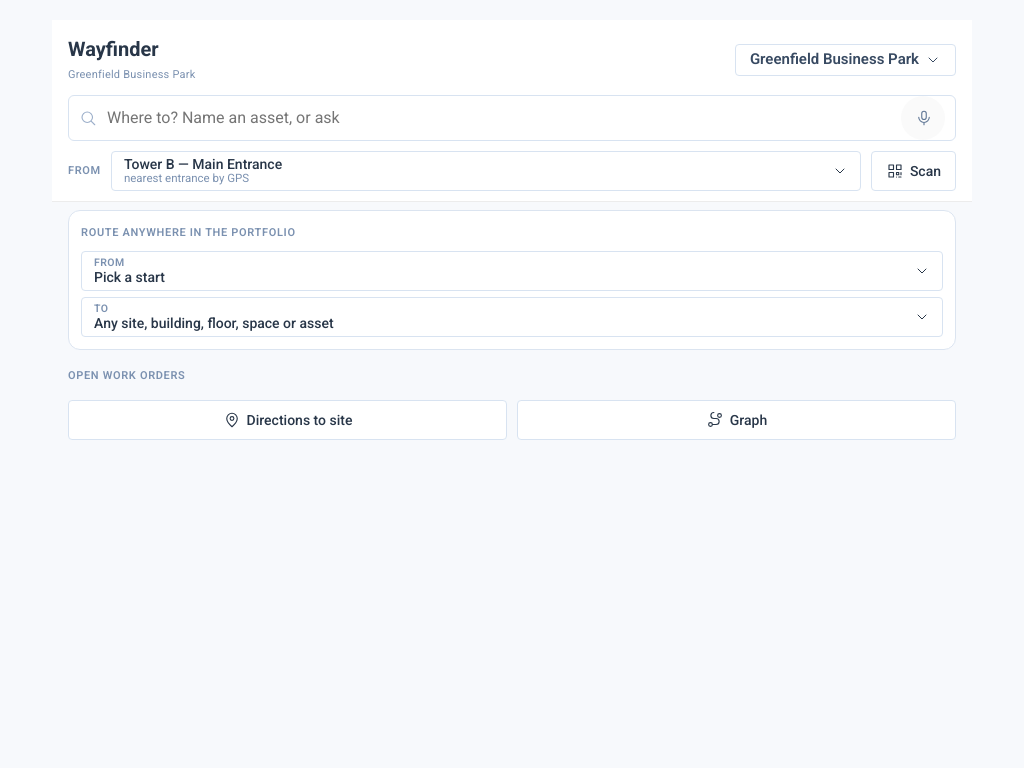
Test: portfolio picker — hierarchy and search › starts at sites only — floors and assets do not leak to the root
Click the button "To Any site, building, floor, space or asset" at (214, 323), box [81,297,943,337]
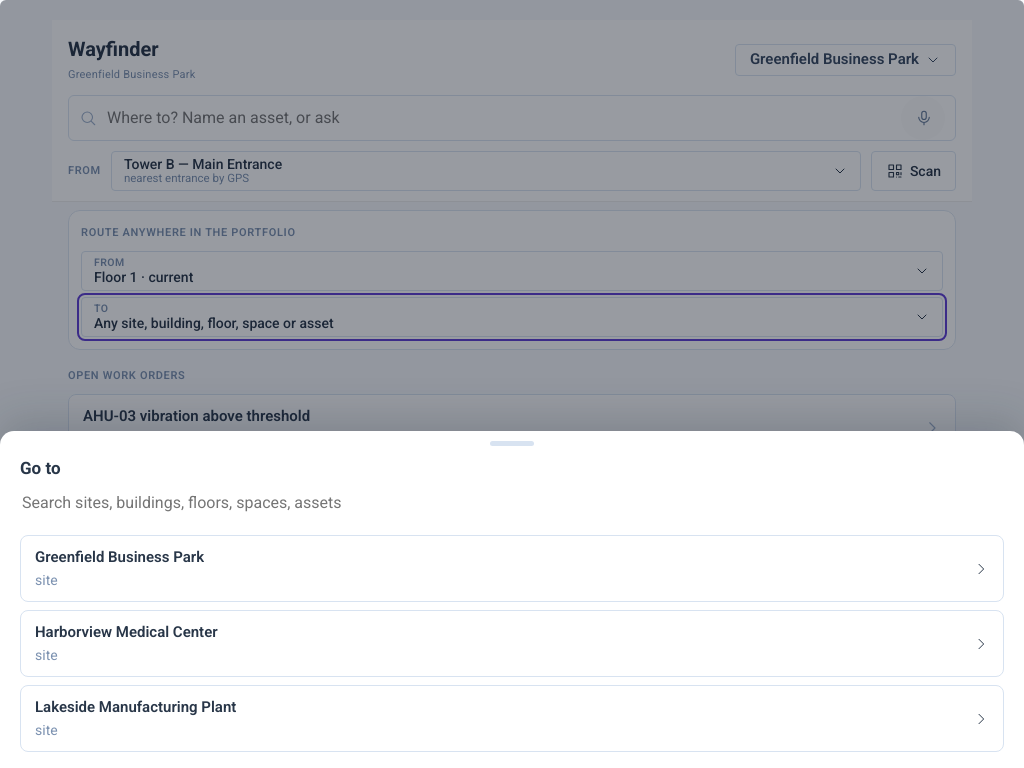
Now the button "Greenfield Business Park site" is shown, box [20,535,1004,602]
Now the button "Harborview Medical Center site" is shown, box [20,610,1004,677]
